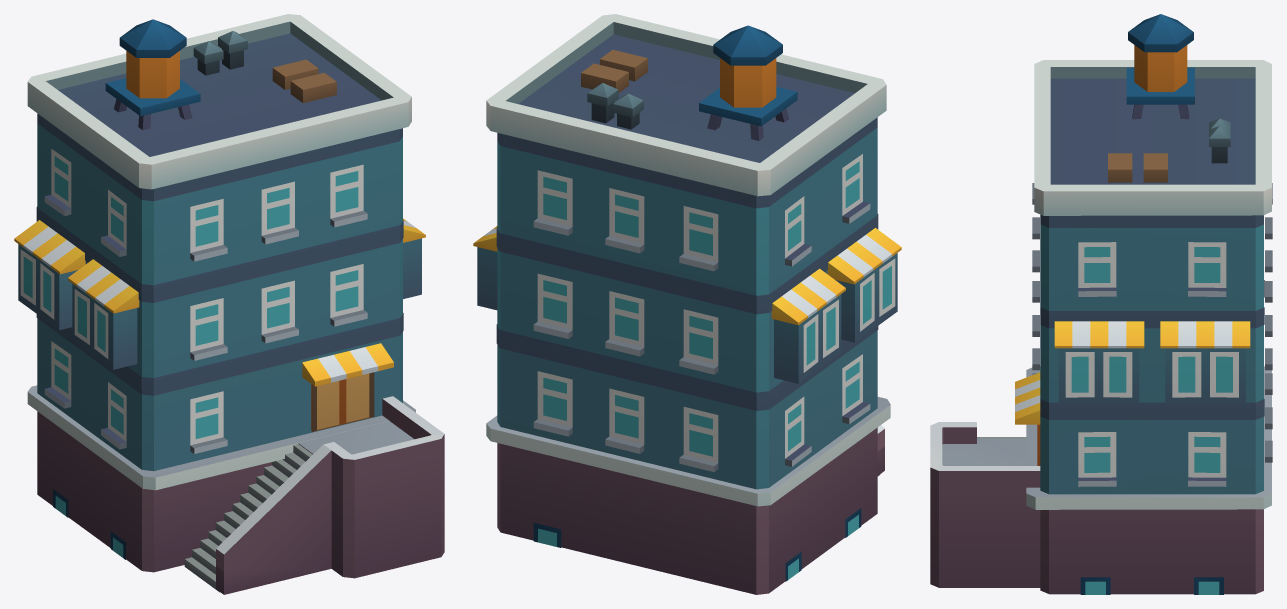
File: Building_cartoon_19.fbx
3 renders of one model, left to right at view 1: azimuth 30°, elevation 25°; view 2: azimuth 150°, elevation 25°; view 3: azimuth 270°, elevation 25°, orthographic. The views are drawn at different scales.
Visible parts, largest first — view 1: Building_cartoon_19; view 2: Building_cartoon_19; view 3: Building_cartoon_19.
Boxes of the visible parts, bbox=[...] form: Building_cartoon_19: bbox=[14, 14, 444, 594]; Building_cartoon_19: bbox=[473, 14, 901, 594]; Building_cartoon_19: bbox=[930, 14, 1272, 594].
Size of the model in its own units: 1356 by 2053 by 1305.
